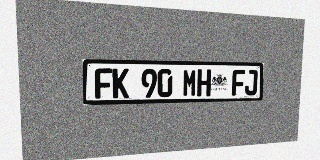0: (157, 69, 172, 97)
9: (142, 69, 157, 98)
F: (95, 68, 112, 99), (232, 70, 245, 96)
H: (197, 69, 211, 96)
J: (245, 70, 258, 95)
K: (112, 68, 129, 98)
M: (182, 69, 197, 97)
